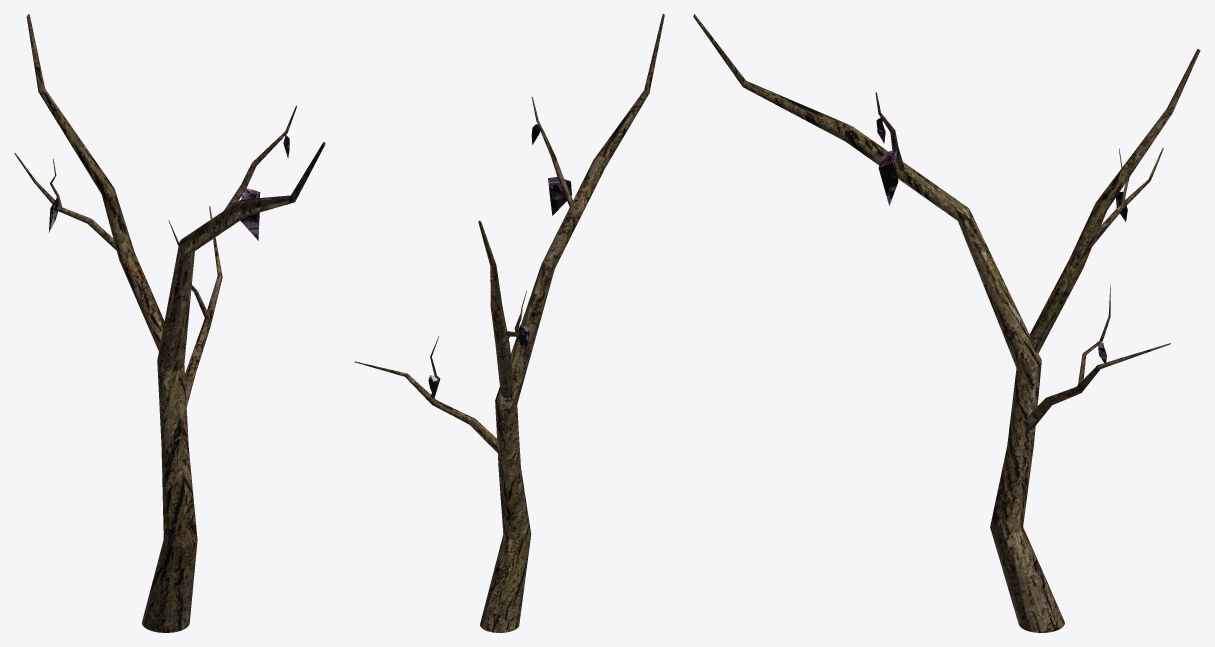
File: PurplePlantDead.fbx
3 views of the same model, side by side, from view 1: azimuth 30°, elevation 25°; view 2: azimuth 150°, elevation 25°; view 3: azimuth 270°, elevation 25° (orthographic). The views are drawn at different scales.
Visible parts, largest first — view 1: PurplePlantDead; view 2: PurplePlantDead; view 3: PurplePlantDead.
Part boxes in pixels (<box>): PurplePlantDead: <box>14,14,325,632</box>; PurplePlantDead: <box>354,14,664,632</box>; PurplePlantDead: <box>693,14,1200,632</box>.
Bounding box in the file's own units: 0.3003 × 0.6802 × 0.8866.
